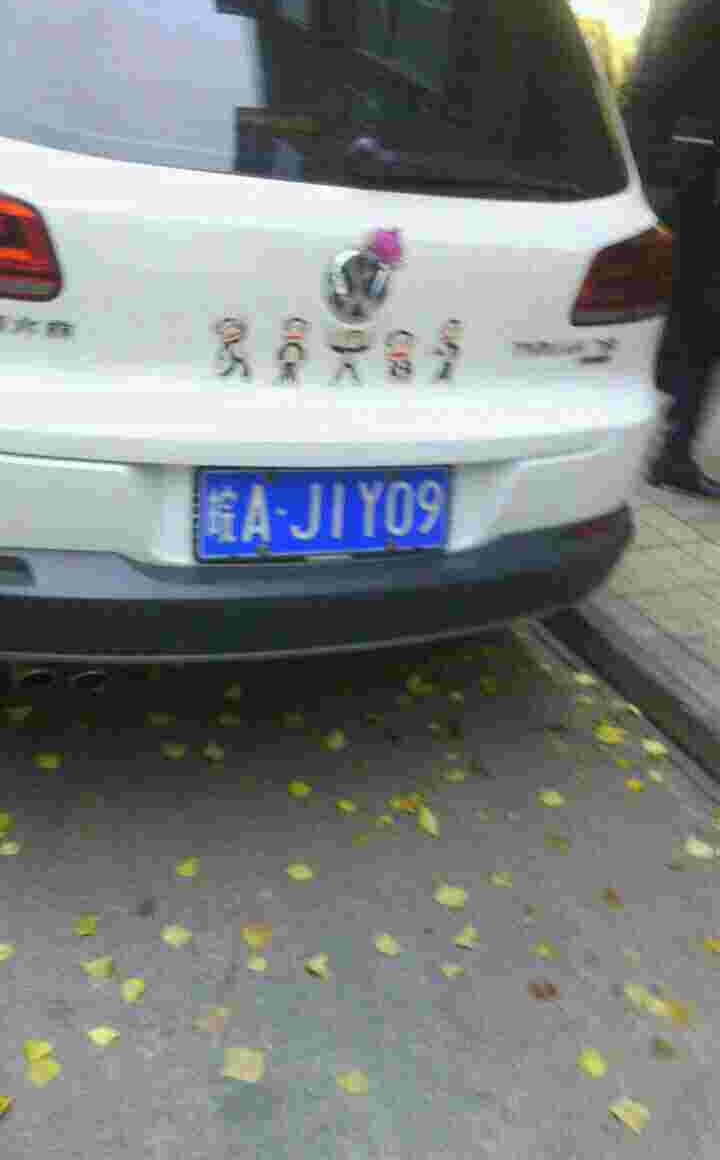license_plate: (202, 478, 455, 560)
